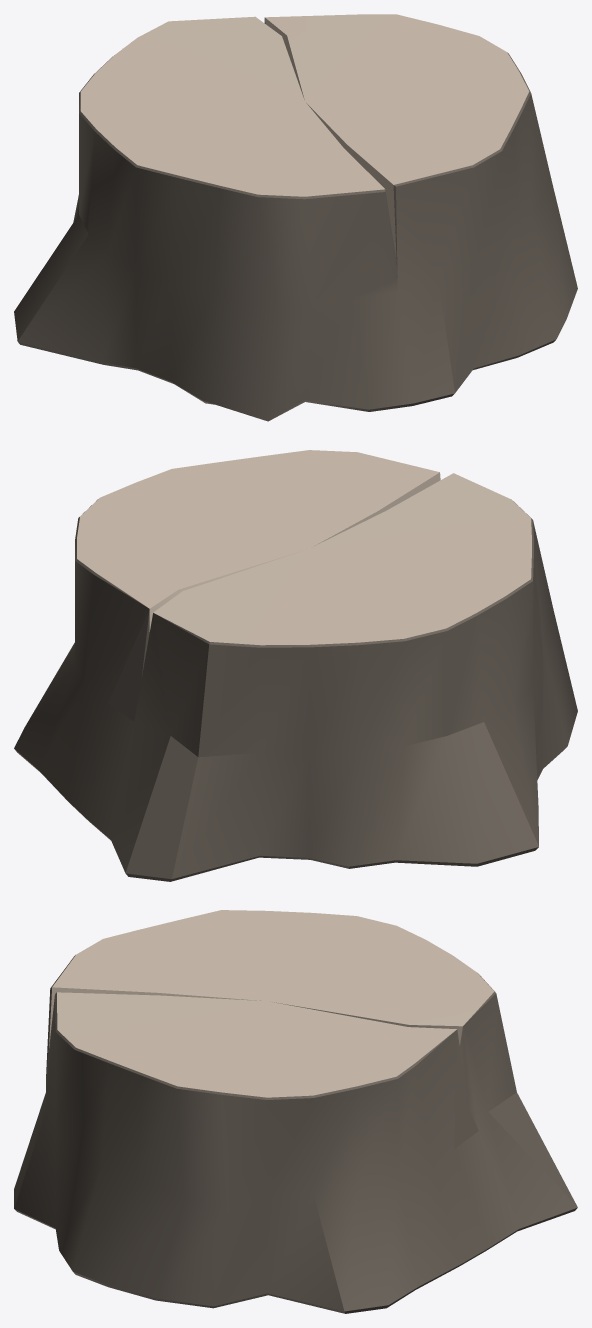
File: wooden_log.fbx
3 views of the same model, one above another, from view 1: azimuth 30°, elevation 25°; view 2: azimuth 150°, elevation 25°; view 3: azimuth 270°, elevation 25° (orthographic). The views are drawn at different scales.
Parts seen in each view (by area): view 1: pCylinder1; view 2: pCylinder1; view 3: pCylinder1.
Part boxes in pixels (left/top/right/bottom): pCylinder1: left=14, top=14, right=577, bottom=421; pCylinder1: left=14, top=450, right=577, bottom=881; pCylinder1: left=14, top=910, right=577, bottom=1313.
Size of the model in its own units: 2.49 by 1.02 by 2.54.
